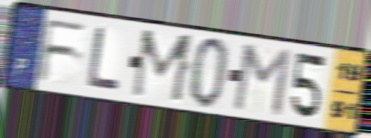0: (187, 35, 231, 110)
5: (289, 49, 327, 120)
F: (35, 17, 90, 84)
L: (86, 24, 124, 92)
M: (128, 27, 197, 106), (229, 43, 293, 119)
